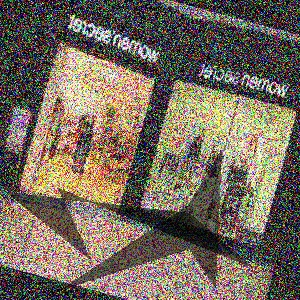women_secret: (106, 28, 300, 84), (138, 5, 198, 15)
